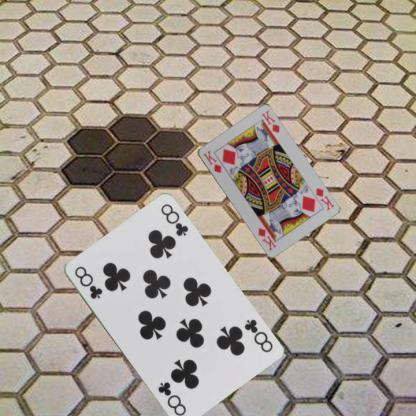8c: (241, 316, 274, 354), (70, 264, 104, 300)
Kd: (200, 148, 223, 174), (313, 186, 335, 212)
